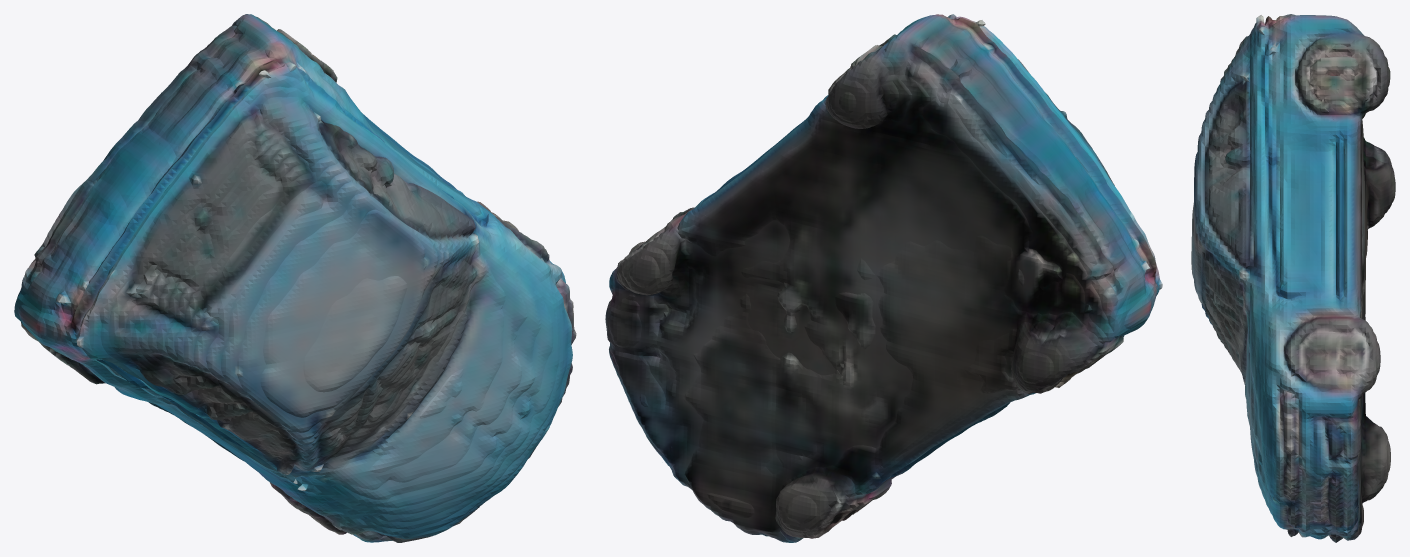
The picture shows the model from 3 angles, left to right: view 1: azimuth 30°, elevation 25°; view 2: azimuth 150°, elevation 25°; view 3: azimuth 270°, elevation 25°; orthographic projection. The views are drawn at different scales.
Visible parts, largest first — view 1: world; view 2: world; view 3: world.
Part boxes in pixels (x1=…): world: x1=14, y1=14, x2=576, y2=542; world: x1=605, y1=14, x2=1162, y2=542; world: x1=1191, y1=14, x2=1395, y2=542.
Bounding box in the file's own units: 0.9401 × 0.9233 × 0.3726.
